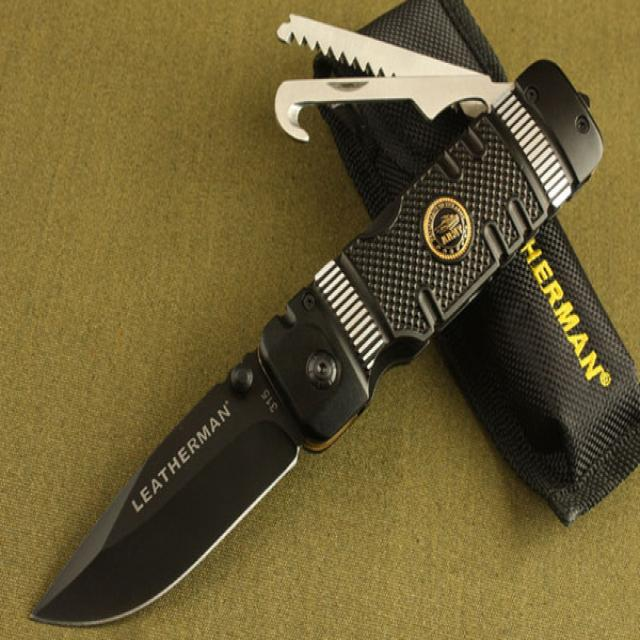knife: (26, 62, 609, 633)
